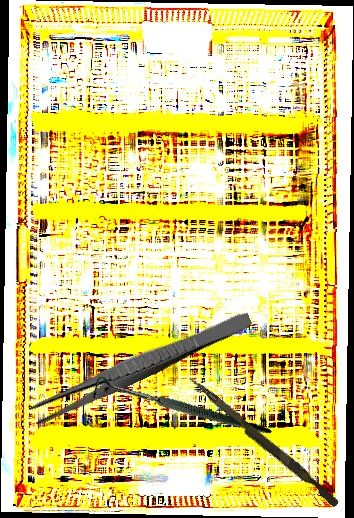Dressing Forceps: (27, 304, 255, 429)
Hook Surgical: (86, 318, 272, 504)
Pusher: (183, 375, 343, 508)
